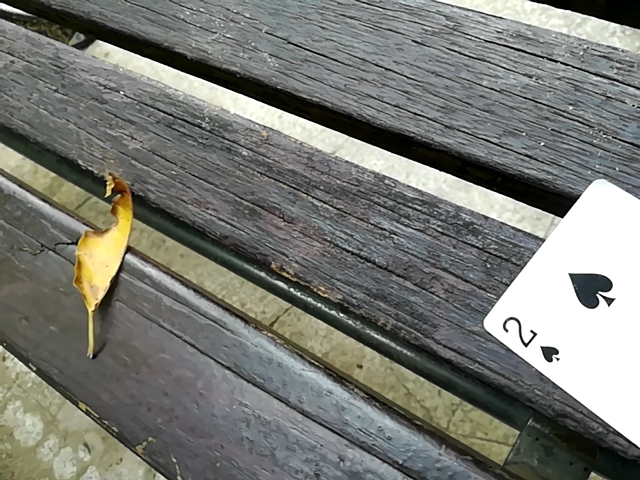ht 2: (485, 168, 640, 468)
